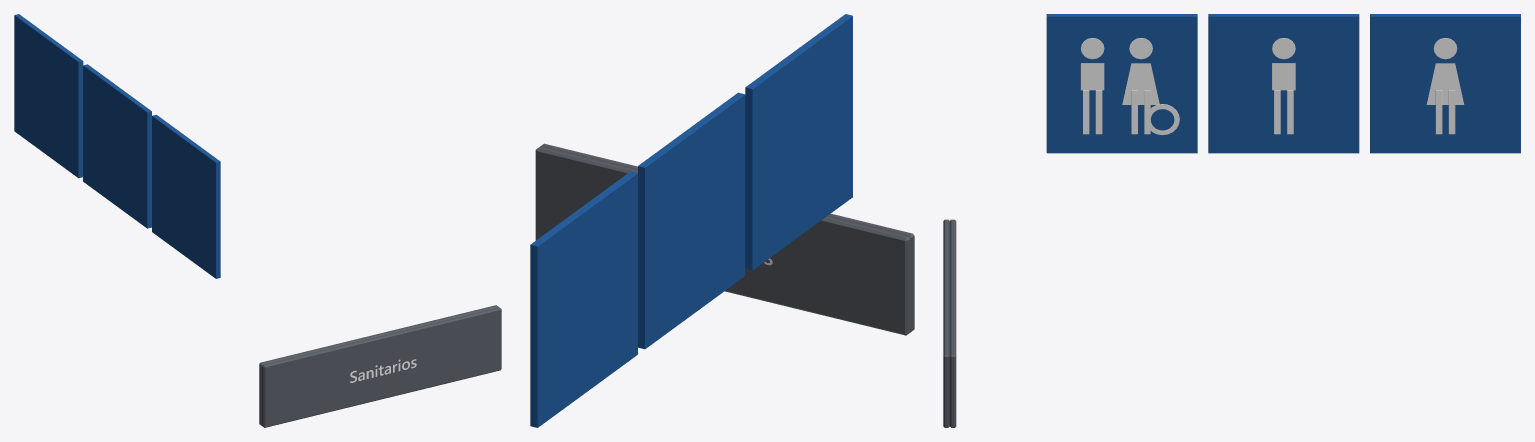
File: 01_nivel_1_general.glb
The picture shows the model from 3 angles, left to right: view 1: azimuth 30°, elevation 25°; view 2: azimuth 150°, elevation 25°; view 3: azimuth 270°, elevation 25°; orthographic projection. The views are drawn at different scales.
Visible parts, largest first — view 1: placa · Sanitarios.001, pictograma_mujeres, pictograma_neutro, pictograma_hombres, placa · Sanitarios; view 2: pictograma_neutro, pictograma_hombres, pictograma_mujeres, placa · Sanitarios, placa · Sanitarios.001; view 3: pictograma_hombres, pictograma_neutro, pictograma_mujeres, placa · Sanitarios, placa · Sanitarios.001.
Part boxes in pixels (x1,y1,x2,y2): placa · Sanitarios.001: (262,307,501,427); pictograma_mujeres: (14,14,83,178); pictograma_neutro: (152,114,220,278); pictograma_hombres: (83,64,151,228); placa · Sanitarios: (259,305,498,425); pictograma_neutro: (745,14,852,270); pictograma_hombres: (638,92,745,349); pictograma_mujeres: (530,171,637,427); placa · Sanitarios: (535,147,910,335); placa · Sanitarios.001: (540,143,914,332); pictograma_hombres: (1208,14,1359,153); pictograma_neutro: (1046,14,1197,153); pictograma_mujeres: (1370,14,1520,153); placa · Sanitarios: (949,219,956,427); placa · Sanitarios.001: (943,219,949,427).
Bounding box in the file's own units: 0.61 × 0.565 × 1.07.
